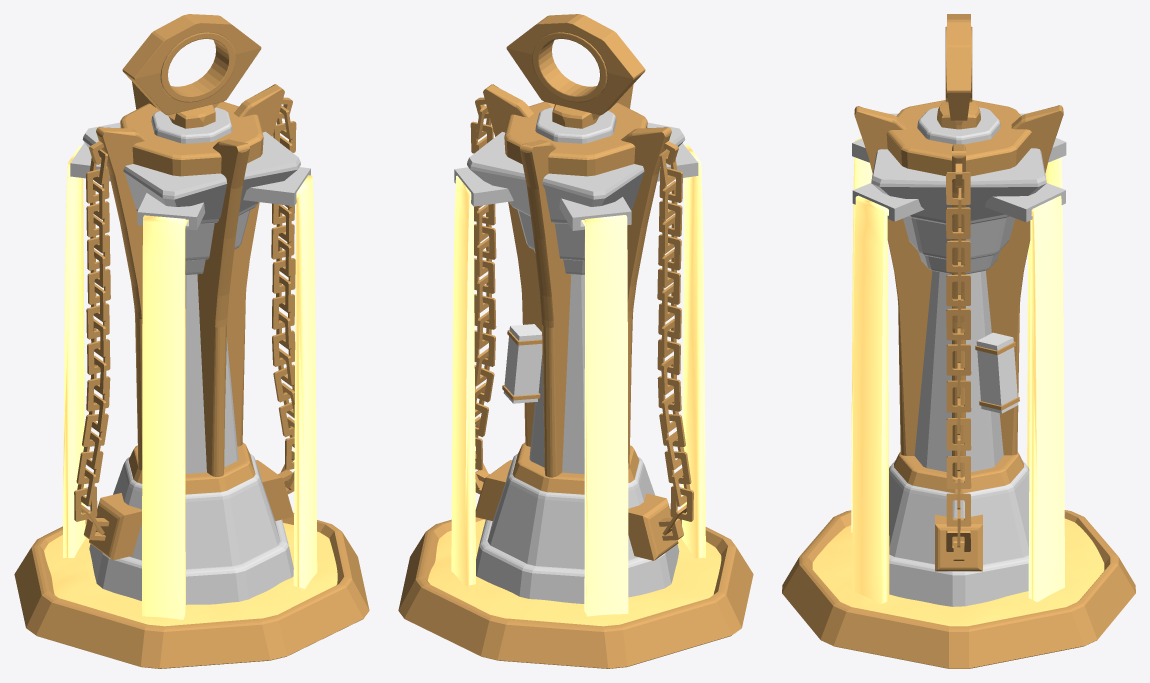
Rendered from info.glb.
3 renders of one model, left to right at view 1: azimuth 30°, elevation 25°; view 2: azimuth 150°, elevation 25°; view 3: azimuth 270°, elevation 25°, orthographic.
Visible parts, largest first — view 1: Cube_0, Cube.033_29, Cube.023_27, Cube.016_36, Grid_20, Cube.029_34, Cube.001_1, Cube.032_28, Cube.002_2, Cube.010_8, Cube.036_15, Cube.012_9 (+14 smaller); view 2: Cube_0, Cube.032_28, Cube.034_30, Grid_20, Cube.030_37, Cube.029_34, Cube.001_1, Cube.033_29, Cube.010_8, Cube.002_2, Cube.012_9, Cube.036_15 (+15 smaller); view 3: Cube_0, Cube.023_27, Cube.034_30, Cube.003_3, Grid_20, Cube.001_1, Cube.016_36, Cube.036_15, Cube.010_8, Cube.030_37, Cube.008_22, Cube.002_2 (+13 smaller).
Part boxes in pixels (<box>): Cube_0: <box>14,512,369,668</box>; Cube.033_29: <box>142,215,188,619</box>; Cube.023_27: <box>293,175,317,588</box>; Cube.016_36: <box>197,139,249,476</box>; Grid_20: <box>44,523,337,626</box>; Cube.029_34: <box>74,149,110,535</box>; Cube.001_1: <box>113,454,280,569</box>; Cube.032_28: <box>63,146,85,557</box>; Cube.002_2: <box>89,519,293,604</box>; Cube.010_8: <box>82,122,300,223</box>; Cube.036_15: <box>271,105,296,489</box>; Cube.012_9: <box>122,14,261,114</box>; Cube_0: <box>398,509,753,668</box>; Cube.032_28: <box>581,215,628,616</box>; Cube.034_30: <box>451,175,475,586</box>; Grid_20: <box>428,519,721,626</box>; Cube.030_37: <box>520,139,571,477</box>; Cube.029_34: <box>657,149,693,535</box>; Cube.001_1: <box>487,454,654,569</box>; Cube.033_29: <box>682,145,705,558</box>; Cube.010_8: <box>467,122,685,223</box>; Cube.002_2: <box>476,519,679,603</box>; Cube.012_9: <box>506,14,645,114</box>; Cube.036_15: <box>470,105,496,489</box>; Cube_0: <box>782,510,1135,668</box>; Cube.023_27: <box>852,195,889,604</box>; Cube.034_30: <box>1028,195,1064,602</box>; Cube.003_3: <box>914,270,1003,471</box>; Grid_20: <box>812,518,1104,626</box>; Cube.001_1: <box>889,460,1029,564</box>; Cube.016_36: <box>854,106,932,455</box>; Cube.036_15: <box>946,172,971,551</box>; Cube.010_8: <box>871,113,1046,224</box>; Cube.030_37: <box>986,105,1063,455</box>; Cube.008_22: <box>886,100,1031,176</box>; Cube.002_2: <box>889,554,1028,606</box>.
Bounding box in the file's own units: 3.66 × 6.25 × 3.51.
